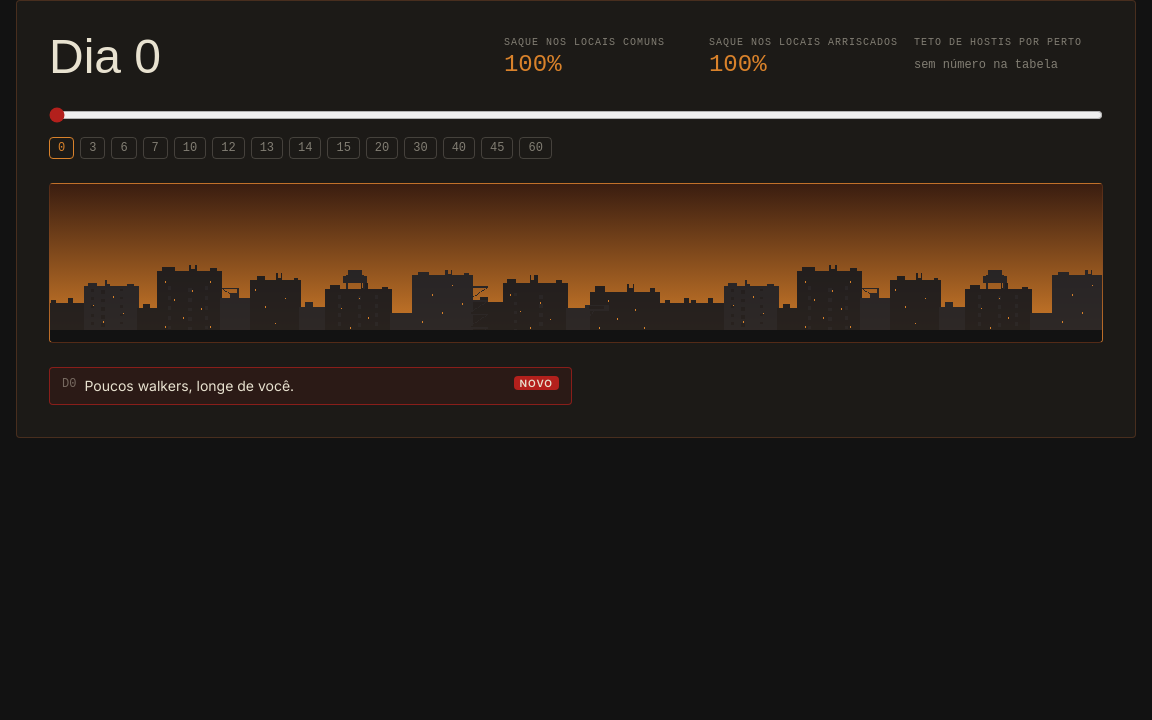
Test: DaySlider › gives the hostile cap where the table has one
Set the slider named "dia" to "45" at [836, 115], box [49, 107, 1103, 123]
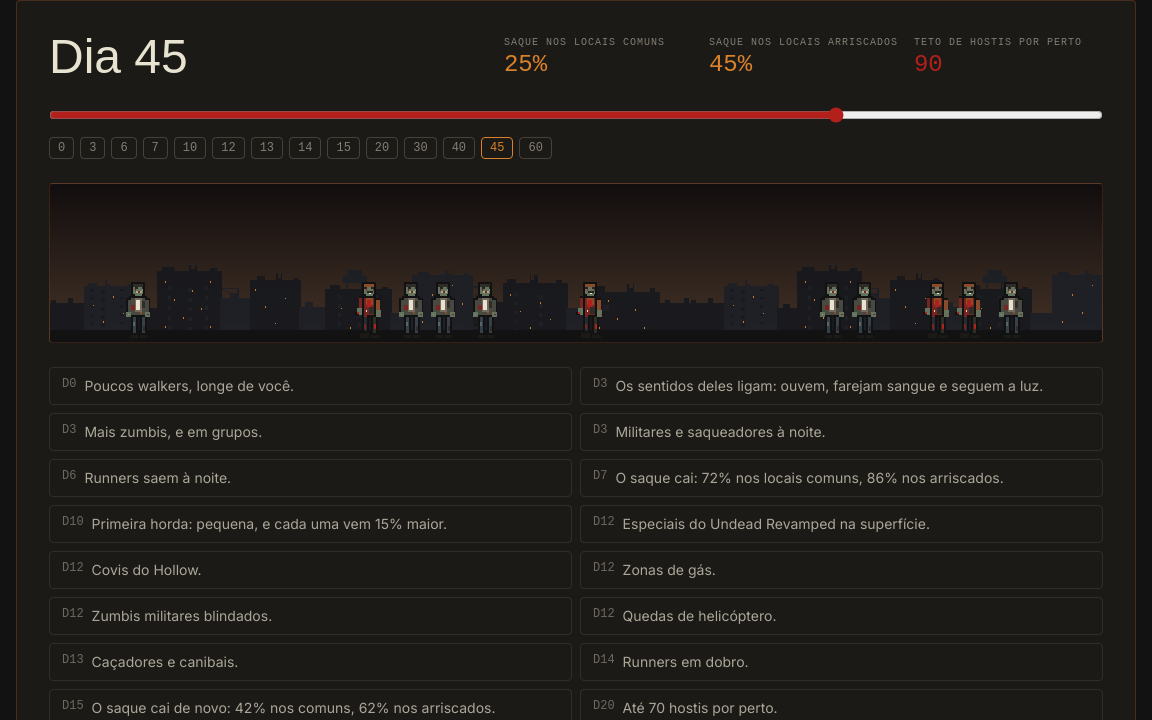
Result: the text "90" is shown at [914, 51, 943, 78]
